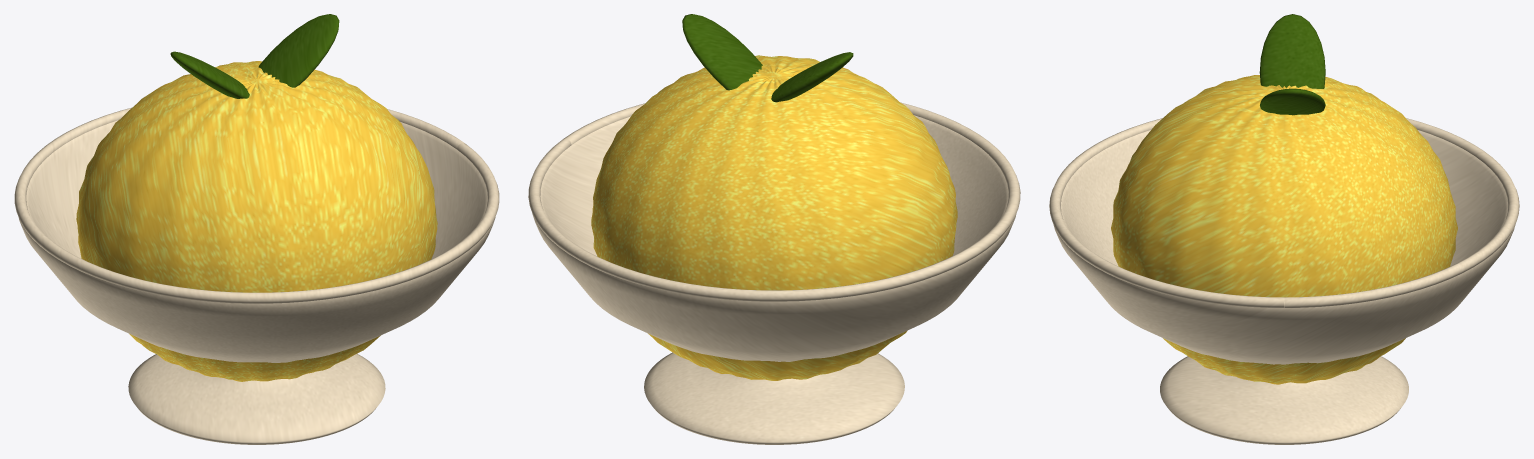
File: 09-lemon-sorbet.glb
The picture shows the model from 3 angles, left to right: view 1: azimuth 30°, elevation 25°; view 2: azimuth 150°, elevation 25°; view 3: azimuth 270°, elevation 25°; orthographic projection. The views are drawn at different scales.
Visible parts, largest first — view 1: Lemon sorbet, Warm clear glass, Fresh leaf; view 2: Lemon sorbet, Warm clear glass, Fresh leaf; view 3: Lemon sorbet, Warm clear glass, Fresh leaf.
Boxes of the visible parts, box(x1,y1,x2,y2) form: Lemon sorbet: box(76, 61, 437, 381); Warm clear glass: box(14, 107, 499, 444); Fresh leaf: box(170, 14, 339, 98); Lemon sorbet: box(591, 55, 957, 380); Warm clear glass: box(528, 102, 1020, 444); Fresh leaf: box(682, 14, 853, 102); Lemon sorbet: box(1111, 75, 1457, 384); Warm clear glass: box(1049, 118, 1519, 444); Fresh leaf: box(1259, 14, 1325, 115).
Bounding box in the file's own units: 0.0285 × 0.0232 × 0.0285.
Materials: 3 (3 with a texture image).
